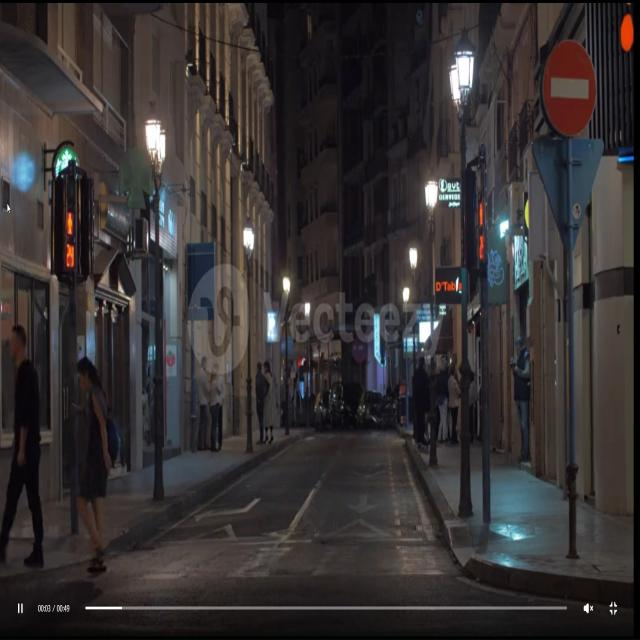pedestrian: (0, 325, 43, 566), (77, 357, 114, 572)
